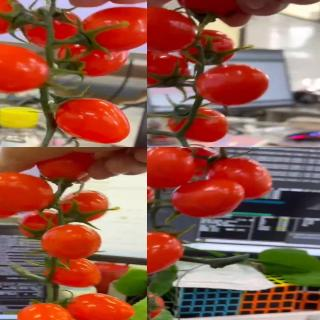tomato: (54, 98, 131, 146), (79, 7, 147, 53), (197, 64, 270, 105), (206, 158, 275, 201), (171, 178, 245, 218), (52, 42, 130, 77), (0, 40, 51, 93), (166, 106, 231, 144), (38, 224, 104, 260), (24, 10, 83, 50), (147, 4, 196, 52), (0, 172, 53, 215), (147, 147, 198, 190), (179, 28, 234, 66), (64, 291, 136, 320), (39, 255, 103, 287), (59, 189, 115, 225), (37, 154, 93, 186), (147, 52, 195, 89), (147, 231, 183, 278), (19, 208, 63, 244), (15, 298, 74, 320), (0, 182, 33, 221), (0, 0, 25, 34), (147, 180, 160, 216)
